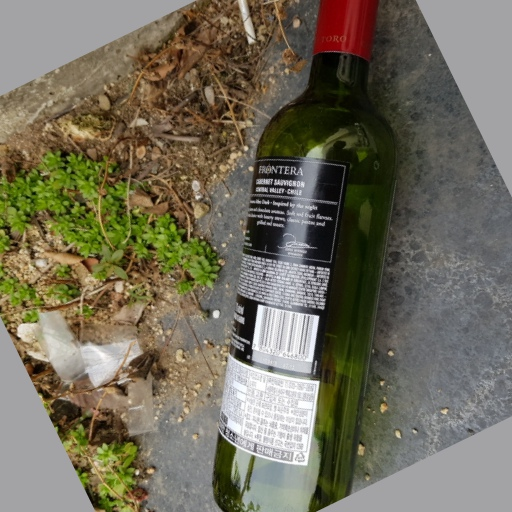Glass_2: (212, 2, 399, 512)
